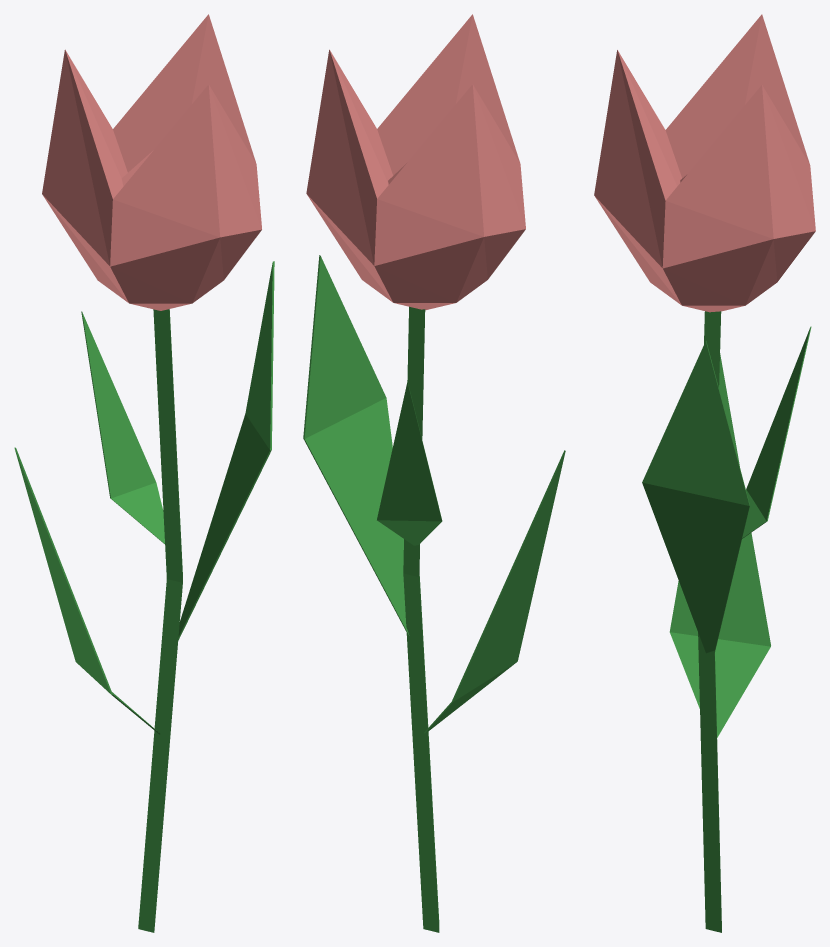
Rendered from pink_flower4.obj.
3 renders of one model, left to right at view 1: azimuth 30°, elevation 25°; view 2: azimuth 150°, elevation 25°; view 3: azimuth 270°, elevation 25°, orthographic.
Size of the model in its own units: 1.05 by 3.47 by 0.7876.
